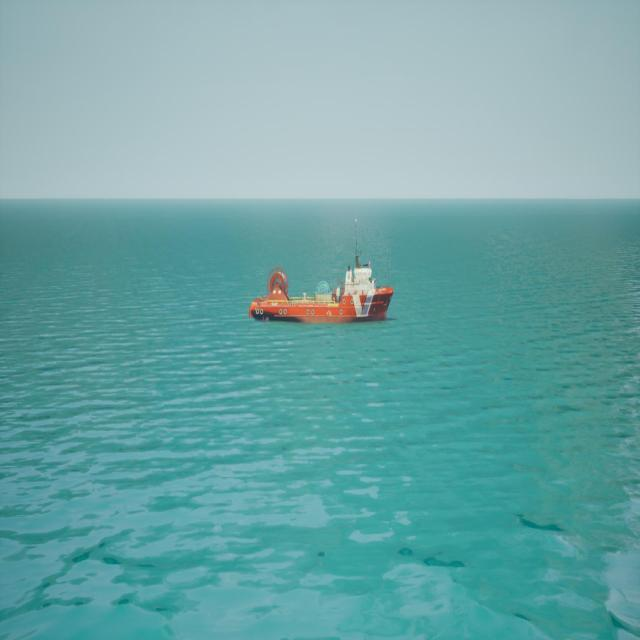tug boat: (248, 214, 397, 326)
